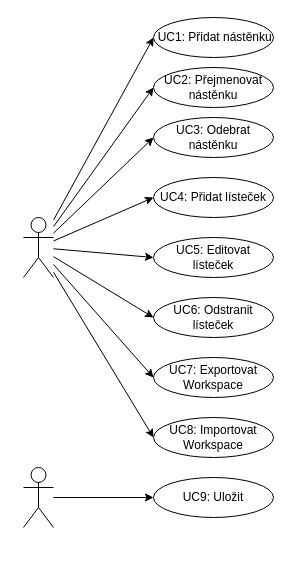
Image size: 291x566. Some labels were removed from this diagram. Here are the shapes that lost their labels. From the top down, the centre of each, then its label:
At (x=38, y=247): "Uživatel".
At (x=38, y=497): "Systém".
